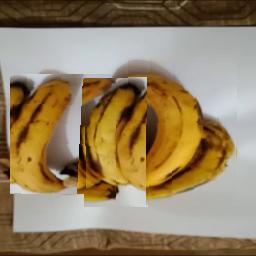Banana Semifresh: (117, 57, 238, 206), (11, 75, 112, 195), (84, 78, 148, 207)
